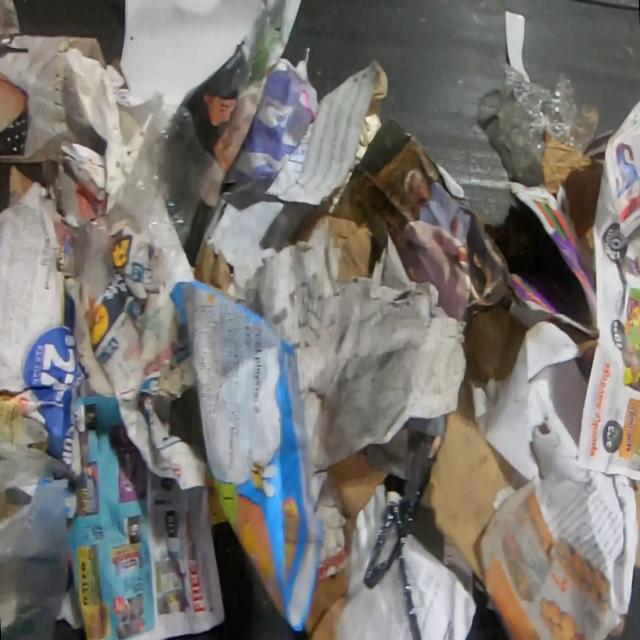cardboard: (168, 277, 328, 633), (419, 305, 531, 587), (305, 451, 390, 639), (503, 182, 599, 339), (289, 185, 372, 286), (538, 136, 604, 250), (8, 161, 42, 206), (627, 475, 639, 567)
rigid_plastic: (362, 486, 428, 640)
soft_plastic: (119, 91, 225, 278), (0, 437, 79, 639), (497, 61, 601, 188), (74, 220, 115, 296)
